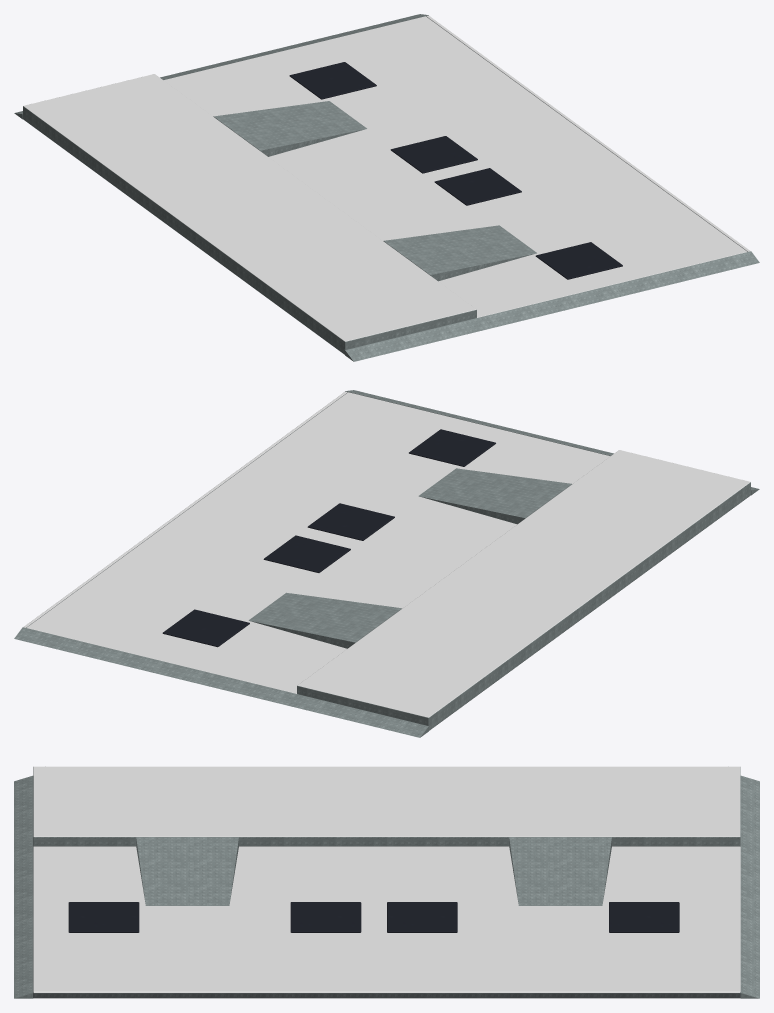
File: Terrace_A.fbx
The picture shows the model from 3 angles, top to bottom: view 1: azimuth 30°, elevation 25°; view 2: azimuth 150°, elevation 25°; view 3: azimuth 270°, elevation 25°; orthographic projection. The views are drawn at different scales.
Visible parts, largest first — view 1: LowerDeck, RearShelf, EndSlopeA, Ramp1, Ramp2, Footprint2, Footprint1, Footprint4, Footprint3, FrontEdge, EndSlopeB; view 2: LowerDeck, RearShelf, EndSlopeB, Ramp1, Ramp2, Footprint3, Footprint4, Footprint1, Footprint2, FrontEdge, EndSlopeA; view 3: LowerDeck, RearShelf, Ramp1, Ramp2, FrontEdge, EndSlopeA, EndSlopeB, Footprint1, Footprint2, Footprint3, Footprint4.
Boxes of the visible parts, x1,y1,x2,y2 form: LowerDeck: [163, 16, 747, 317]; RearShelf: [23, 74, 476, 354]; EndSlopeA: [345, 251, 759, 361]; Ramp1: [383, 225, 536, 281]; Ramp2: [213, 101, 366, 156]; Footprint2: [434, 168, 521, 205]; Footprint1: [535, 242, 622, 279]; Footprint4: [289, 62, 376, 99]; Footprint3: [390, 136, 477, 173]; FrontEdge: [426, 15, 750, 251]; EndSlopeB: [14, 14, 428, 119]; LowerDeck: [26, 392, 610, 693]; RearShelf: [297, 450, 750, 730]; EndSlopeB: [14, 627, 428, 737]; Ramp1: [418, 468, 571, 524]; Ramp2: [248, 592, 401, 648]; Footprint3: [263, 535, 350, 572]; Footprint4: [162, 609, 249, 647]; Footprint1: [409, 429, 495, 466]; Footprint2: [307, 503, 394, 540]; FrontEdge: [23, 391, 347, 627]; EndSlopeA: [345, 390, 759, 495]; LowerDeck: [33, 846, 740, 991]; RearShelf: [33, 766, 740, 846]; Ramp1: [136, 837, 238, 905]; Ramp2: [509, 837, 611, 905]; FrontEdge: [33, 991, 740, 998]; EndSlopeA: [14, 775, 33, 998]; EndSlopeB: [740, 775, 759, 998]; Footprint1: [68, 902, 139, 932]; Footprint2: [290, 902, 361, 932]; Footprint3: [387, 902, 457, 932]; Footprint4: [609, 902, 679, 932].
Size of the model in its own units: 80 by 2.6 by 116.
